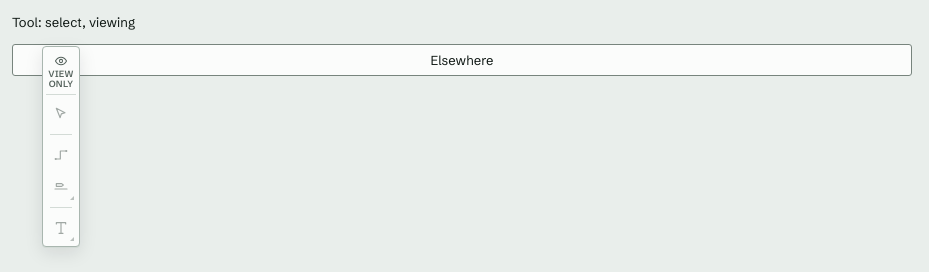
Scenario: ToolRail while viewing › turns editing on and picks the tool when one is clicked
Click the button named "Wire" at [61, 155], box [46, 140, 76, 170]
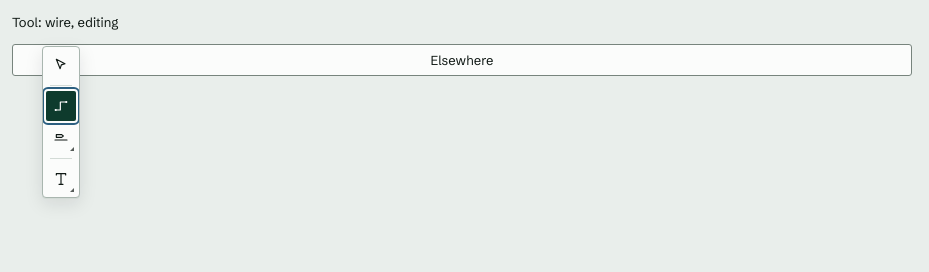
Expected: the text "Tool: wire, editing" is shown, [12, 14, 119, 30]
